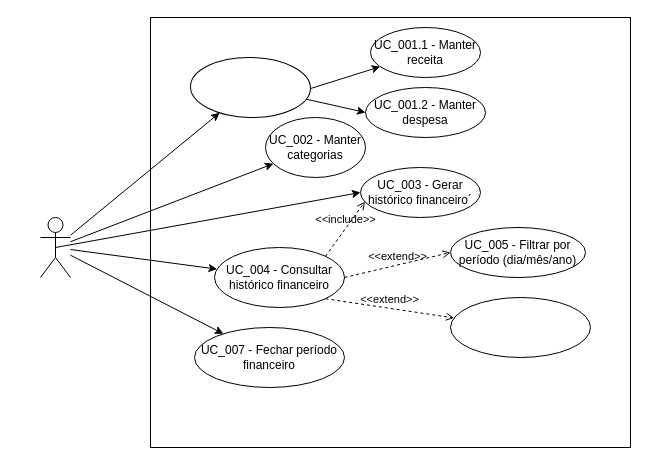
This 648x473 diagram has some shape labels left out. The centre of each missing label's shape, as x and y in pixels:
Administrador: (55,247)
UC_001- Manter movimentações financeira: (250,86)
UC_006 - Buscar por categoria ou descrição: (520,327)
